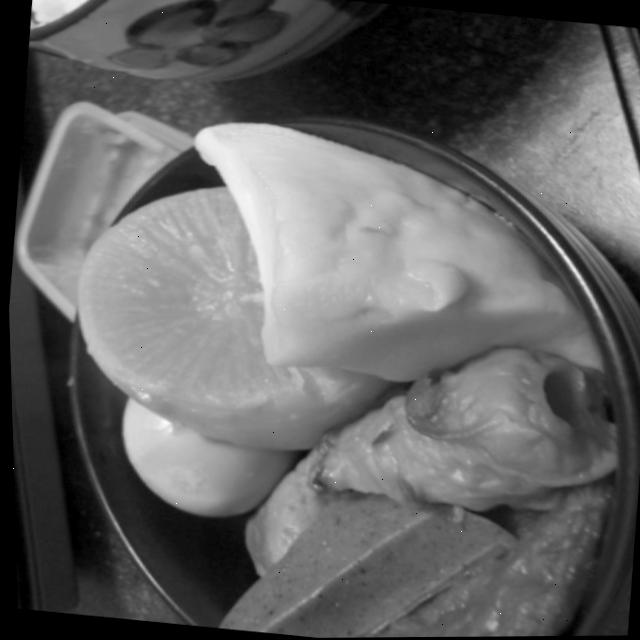汤锅炖物: (38, 102, 640, 640)
